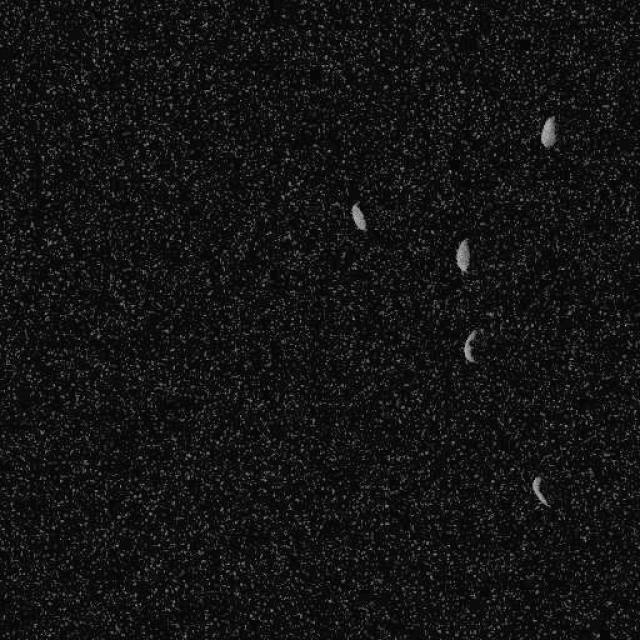D2: (530, 473, 550, 508), (462, 328, 482, 363), (538, 114, 558, 148), (454, 236, 471, 274), (350, 200, 366, 231)
